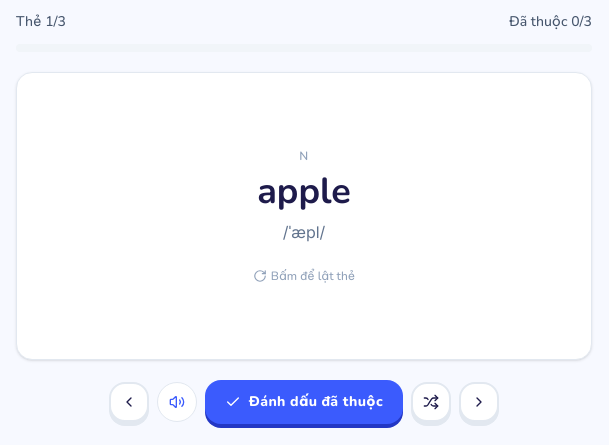
Scenario: Flashcards › đánh dấu đã thuộc cập nhật bộ đếm và store, bấm lại để bỏ
Click the button "Đánh dấu đã thuộc" at [304, 402], box [205, 380, 403, 424]
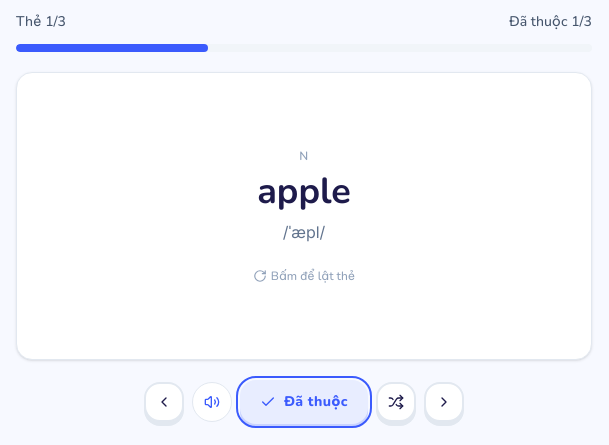
Now the text "Đã thuộc 1/3" is shown, box [509, 12, 592, 32]
Click the button "Đã thuộc" at [304, 402], box [240, 380, 368, 424]
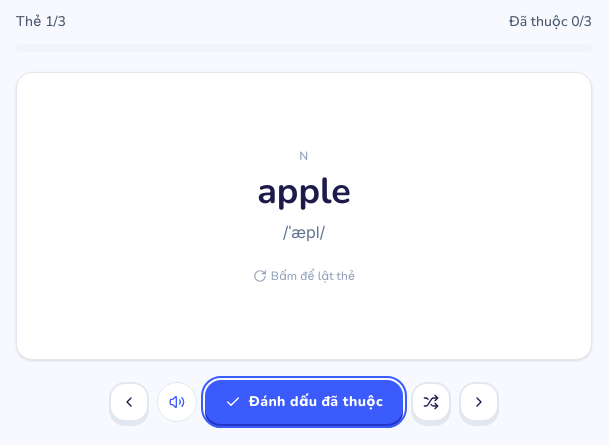
Now the text "Đã thuộc 0/3" is shown, box [509, 12, 592, 32]
